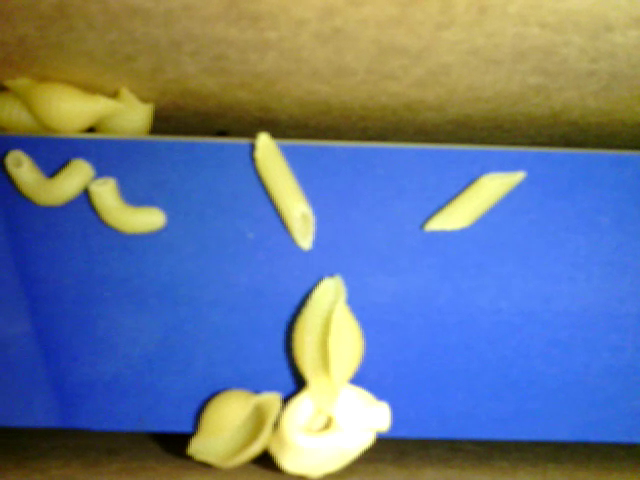elbow: (4, 149, 95, 211), (87, 174, 166, 235)
penne: (251, 126, 315, 250), (421, 167, 531, 235)
shell: (289, 273, 365, 408), (187, 386, 282, 469), (1, 79, 122, 134), (93, 86, 160, 136), (1, 89, 58, 136)
tortellini: (267, 377, 394, 475)
